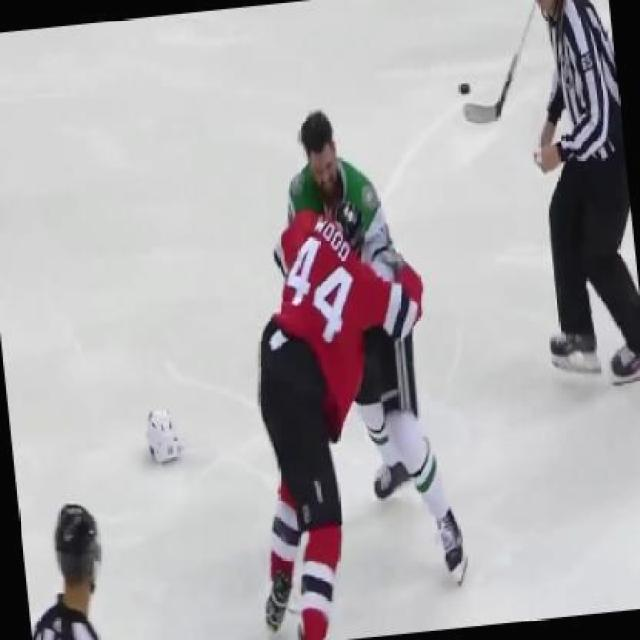fight: (229, 103, 474, 639)
non-fight: (506, 0, 639, 406)
